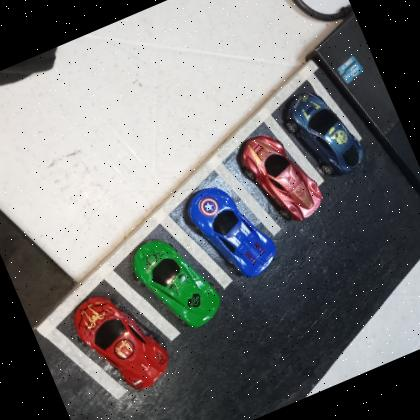Car: (64, 276, 180, 406), (123, 222, 230, 344), (180, 170, 285, 294), (232, 119, 330, 235), (278, 79, 370, 189)
